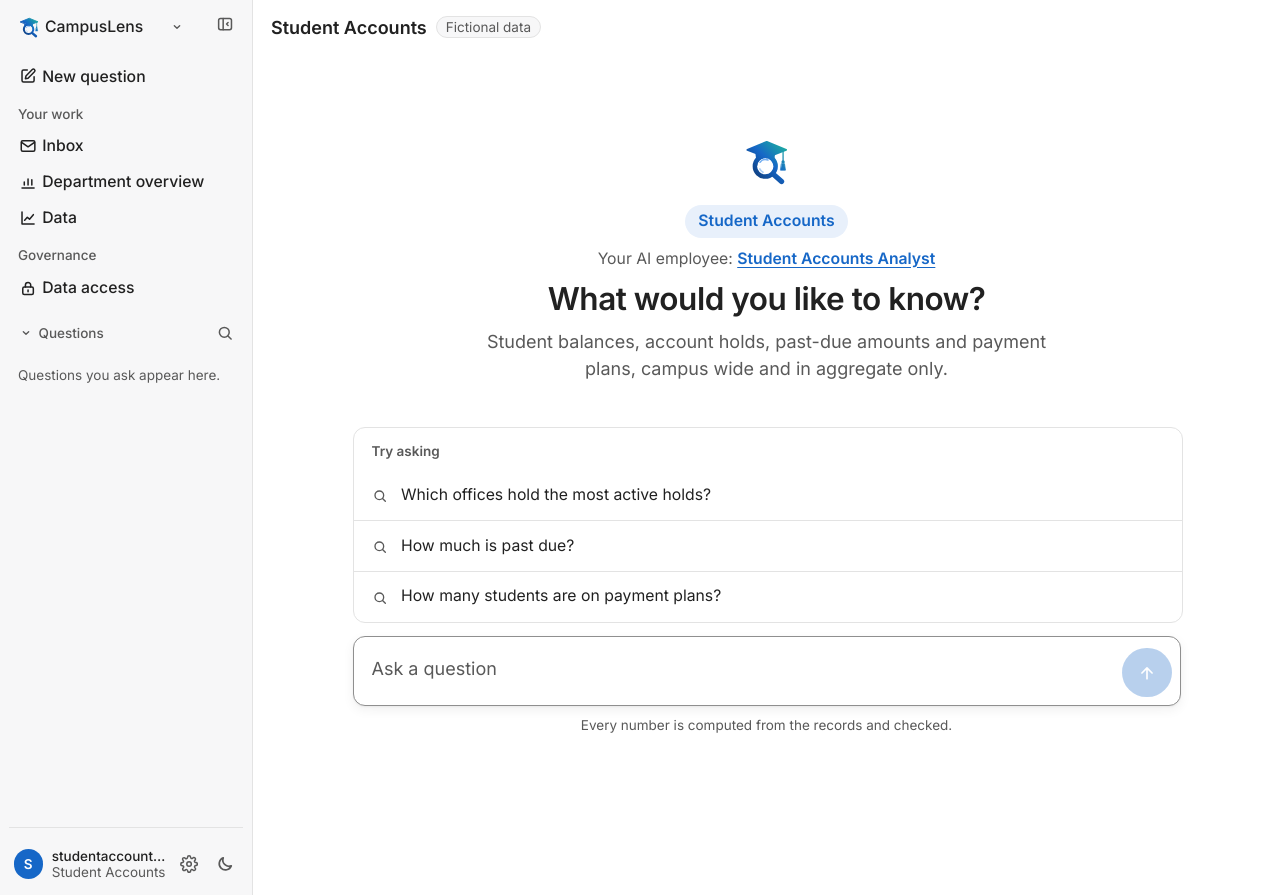
Scenario: navigation by role › shows Student Accounts its own AI employee first on the AI employees page, without the audit log
Click the button "Student Accounts Analyst": [836, 258] box [737,247,935,270]
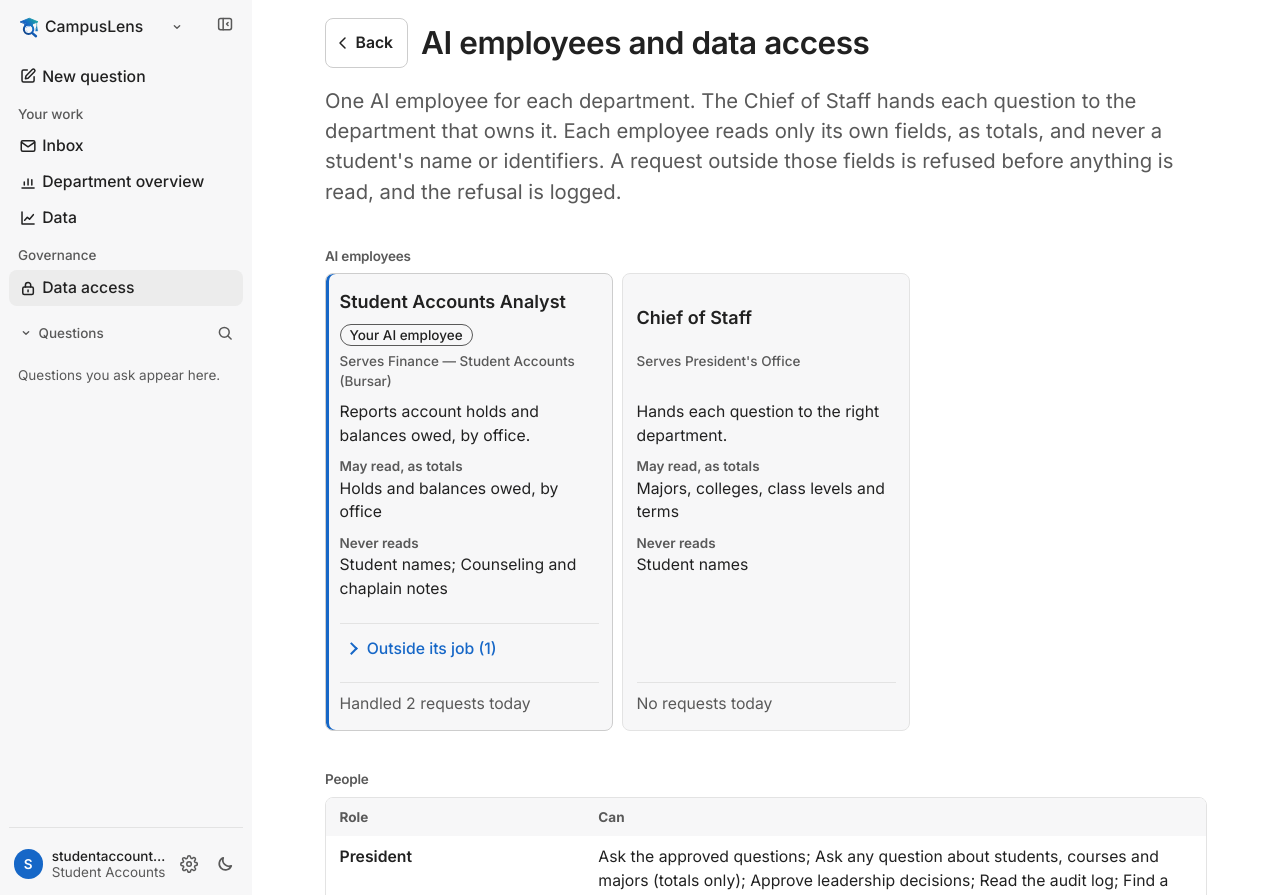
Result: the text "Your AI employee" is shown at [340,324,473,346]
Result: the text "Handled 2 requests today" is shown at [340,682,598,716]
